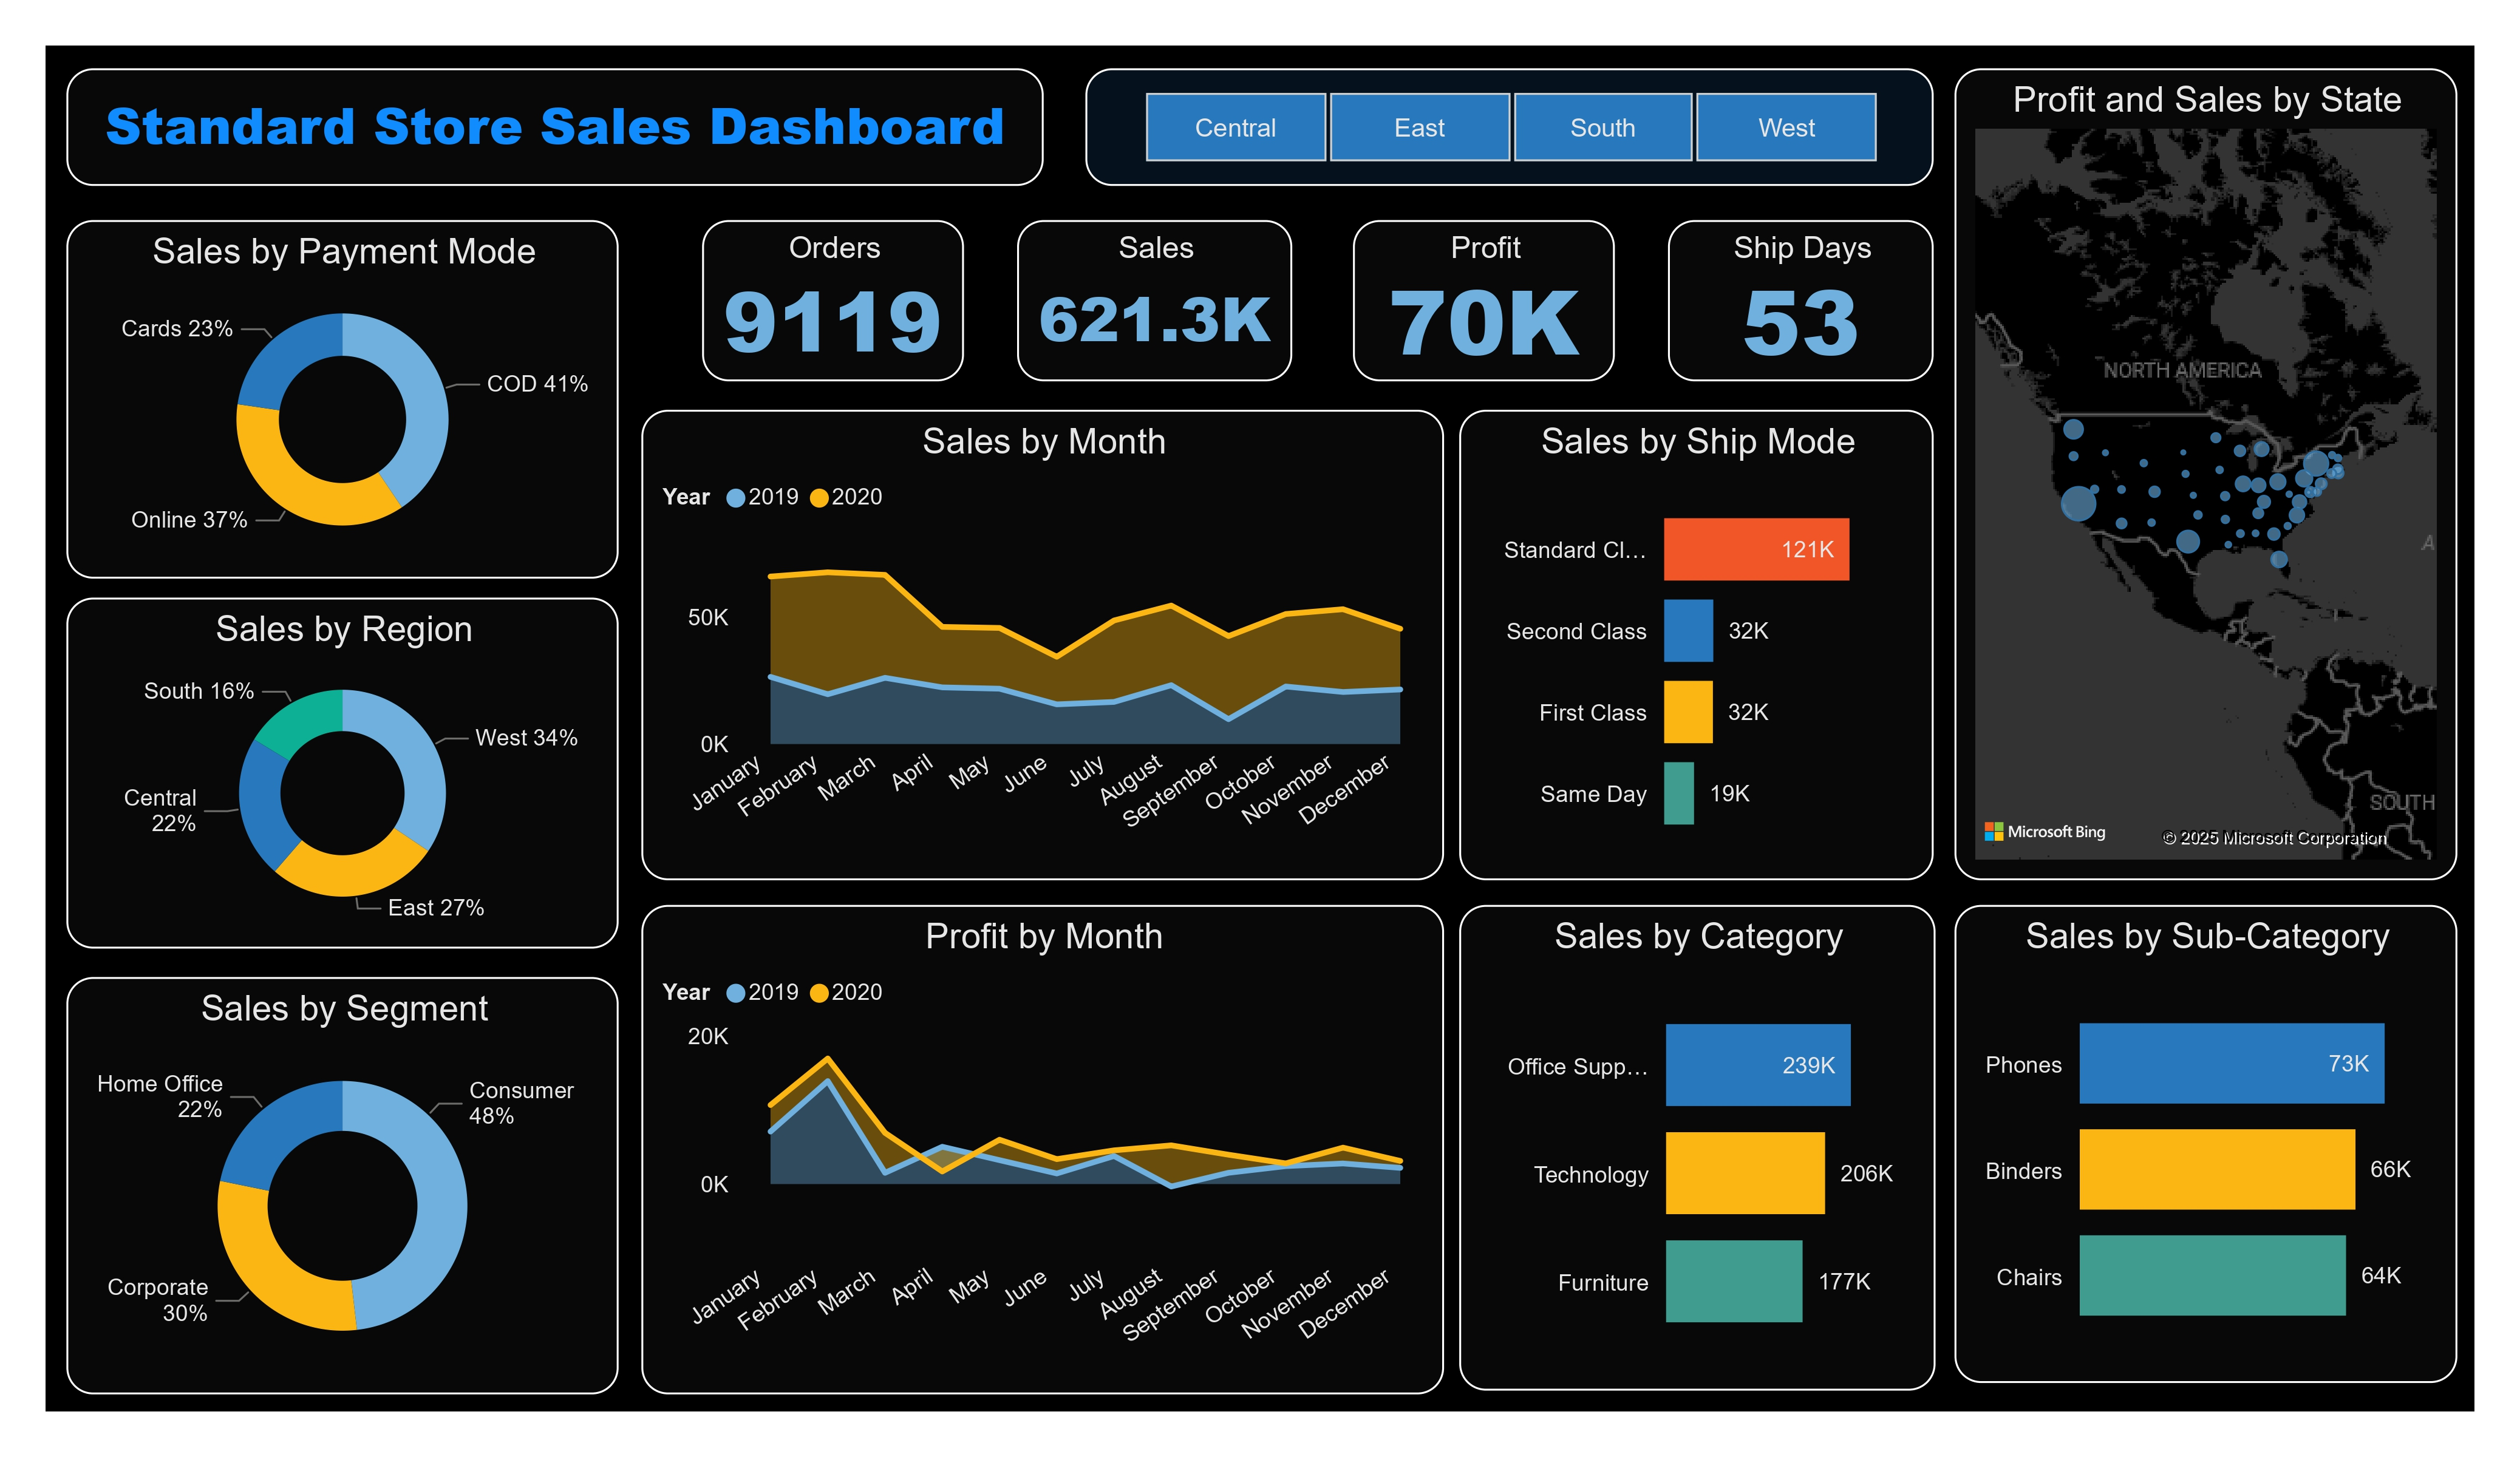

This screenshot's page, from the dashboard's own definition file:
{"tool":"powerbi","page":{"name":"Page 1","canvas":[1280,720],"ordinal":0},"visuals":[{"type":"clusteredBarChart","title":"Sales by Category","fields":{"Category":["SuperStore_Sales_Dataset.Category"],"Y":["Sum(SuperStore_Sales_Dataset.Sales)"]},"box":[745.1,452.8,251.1,256.6],"z":0},{"type":"clusteredBarChart","title":"Sales by Sub-Category","fields":{"Category":["SuperStore_Sales_Dataset.Sub-Category"],"Y":["Sum(SuperStore_Sales_Dataset.Sales)"]},"box":[1005.8,452.8,264.8,252.5],"z":1000},{"type":"clusteredBarChart","title":"Sales by Ship Mode","fields":{"Category":["SuperStore_Sales_Dataset.Ship Mode"],"Y":["Sum(SuperStore_Sales_Dataset.Sales)"]},"box":[745.1,192.1,249.7,248.4],"z":2000},{"type":"stackedAreaChart","title":"Sales by Month","fields":{"Y":["Sum(SuperStore_Sales_Dataset.Sales)"],"Category":["SuperStore_Sales_Dataset.Order Date.Variation.Date Hierarchy.Month","SuperStore_Sales_Dataset.Order Date.Variation.Date Hierarchy.Day"],"Series":["SuperStore_Sales_Dataset.Order Date.Variation.Date Hierarchy.Year"]},"box":[314.2,192.1,422.6,248.4],"z":3000},{"type":"stackedAreaChart","title":"Profit by Month","fields":{"Category":["SuperStore_Sales_Dataset.Order Date.Variation.Date Hierarchy.Month","SuperStore_Sales_Dataset.Order Date.Variation.Date Hierarchy.Day"],"Series":["SuperStore_Sales_Dataset.Order Date.Variation.Date Hierarchy.Year"],"Y":["Sum(SuperStore_Sales_Dataset.Profit)"]},"box":[314.2,452.8,422.6,258],"z":4000},{"type":"map","title":"Profit and Sales by State","fields":{"Category":["SuperStore_Sales_Dataset.State"],"Size":["Sum(SuperStore_Sales_Dataset.Sales)"]},"box":[1005.8,12.3,264.8,428.1],"z":5000},{"type":"donutChart","title":"Sales by Segment","fields":{"Category":["SuperStore_Sales_Dataset.Segment"],"Y":["Sum(SuperStore_Sales_Dataset.Sales)"]},"box":[11,491.3,290.9,219.6],"z":6000},{"type":"donutChart","title":"Sales by Payment Mode","fields":{"Category":["SuperStore_Sales_Dataset.Payment Mode"],"Y":["Sum(SuperStore_Sales_Dataset.Sales)"]},"box":[11,91.9,290.9,189.4],"z":7000},{"type":"donutChart","title":"Sales by Region","fields":{"Category":["SuperStore_Sales_Dataset.Region"],"Y":["Sum(SuperStore_Sales_Dataset.Sales)"]},"box":[11,290.9,290.9,185.2],"z":8000},{"type":"slicer","fields":{"Values":["SuperStore_Sales_Dataset.Region"]},"box":[547.5,12.3,447.3,61.7],"z":9000},{"type":"textbox","box":[11,12.3,514.6,61.7],"z":10000},{"type":"card","title":"Sales","fields":{"Values":["Sum(SuperStore_Sales_Dataset.Sales)"]},"box":[511.8,91.9,145.5,85.1],"z":11000},{"type":"card","title":"Orders","fields":{"Values":["Sum(SuperStore_Sales_Dataset.Quantity)"]},"box":[345.8,91.9,138.6,85.1],"z":12000},{"type":"card","title":"Profit","fields":{"Values":["Sum(SuperStore_Sales_Dataset.Profit)"]},"box":[688.9,91.9,138.6,85.1],"z":13000},{"type":"card","title":"Ship Days","fields":{"Values":["Avg(SuperStore_Sales_Dataset.Avg_Delivery)"]},"box":[854.9,91.9,140,85.1],"z":14000}]}

Visuals, with their boxes in screenshot pixels (x1, y1, x2, y2):
"Sales by Category" clusteredBarChart: 1459:905:1936:1391
"Sales by Sub-Category" clusteredBarChart: 1954:905:2457:1384
"Sales by Ship Mode" clusteredBarChart: 1459:410:1933:881
"Sales by Month" stackedAreaChart: 642:410:1444:881
"Profit by Month" stackedAreaChart: 642:905:1444:1394
"Profit and Sales by State" map: 1954:69:2457:881
"Sales by Segment" donutChart: 66:977:618:1394
"Sales by Payment Mode" donutChart: 66:220:618:579
"Sales by Region" donutChart: 66:597:618:949
slicer - SuperStore_Sales_Dataset.Region: 1085:69:1933:186
textbox: 66:69:1043:186
"Sales" card: 1017:220:1293:381
"Orders" card: 702:220:965:381
"Profit" card: 1353:220:1616:381
"Ship Days" card: 1668:220:1933:381
